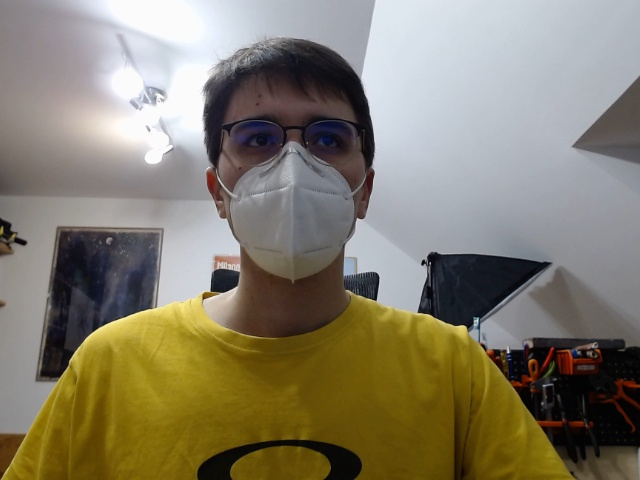CorrectMask: (201, 33, 377, 287)
